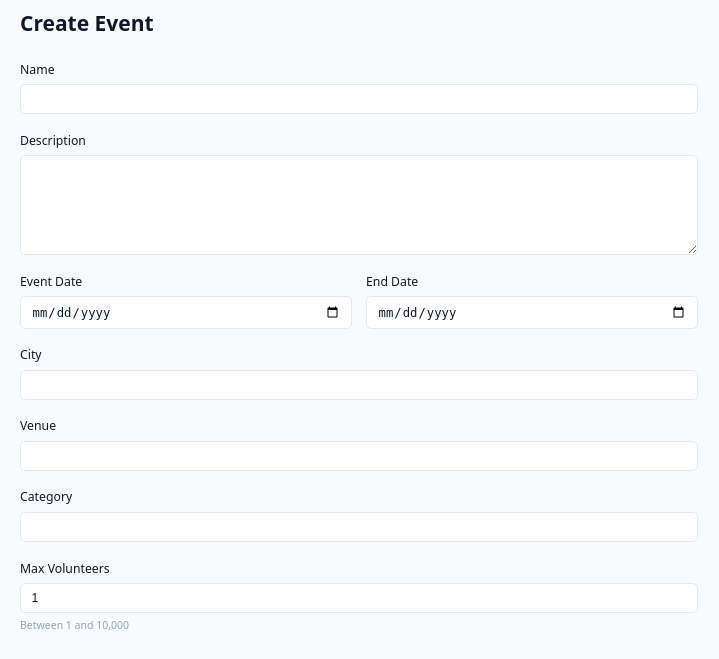
EventCreateContent › form validation on blur › shows error when name field is left empty on blur
Click the field labelled "Name" at [359, 99], box [20,84,698,114]
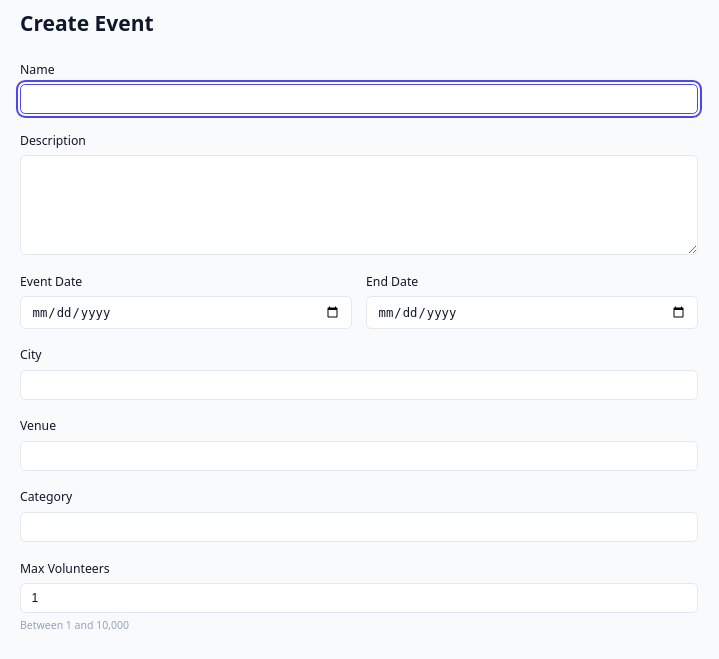
Press Tab
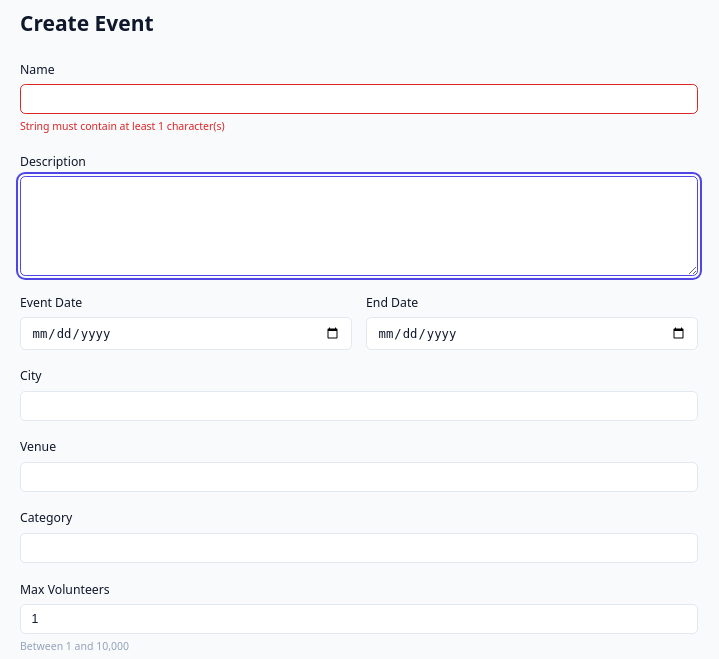
Expected: the text "String must contain at least 1 character(s)" is shown, [20,119,225,133]
